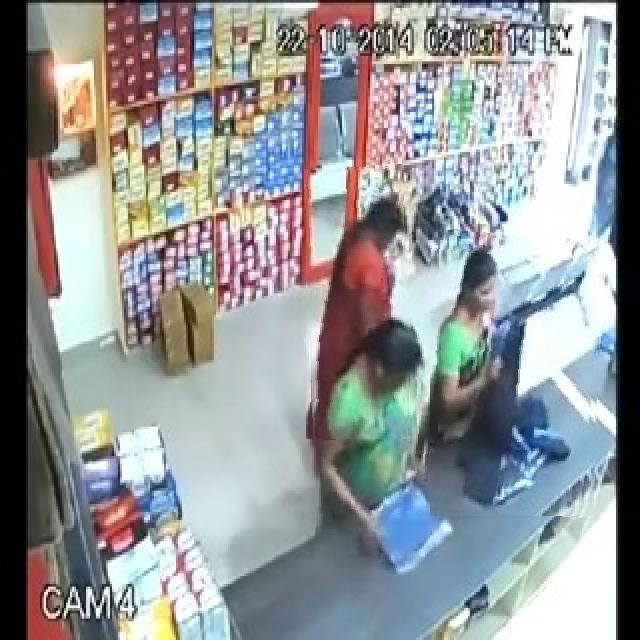Normal: (430, 232, 602, 516), (316, 310, 471, 594), (307, 165, 413, 439)
